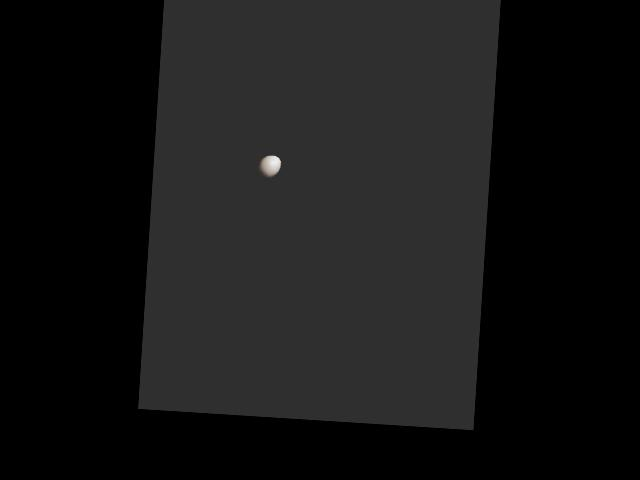egg: (257, 154, 281, 179)
